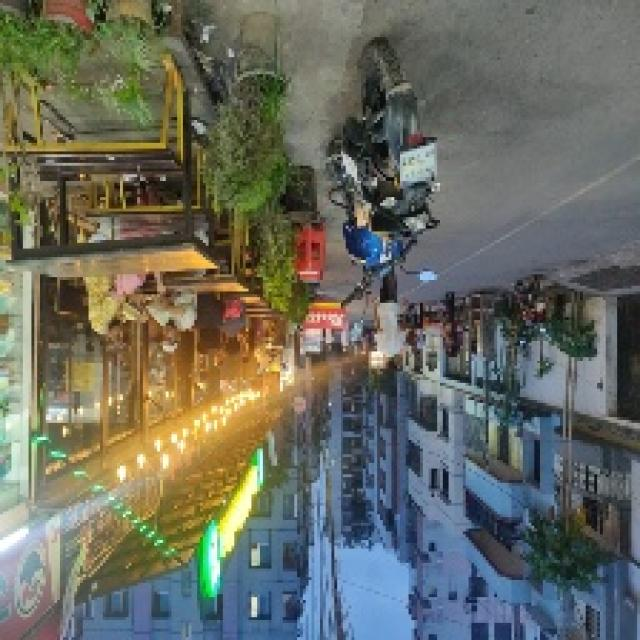bike: (334, 53, 435, 299)
